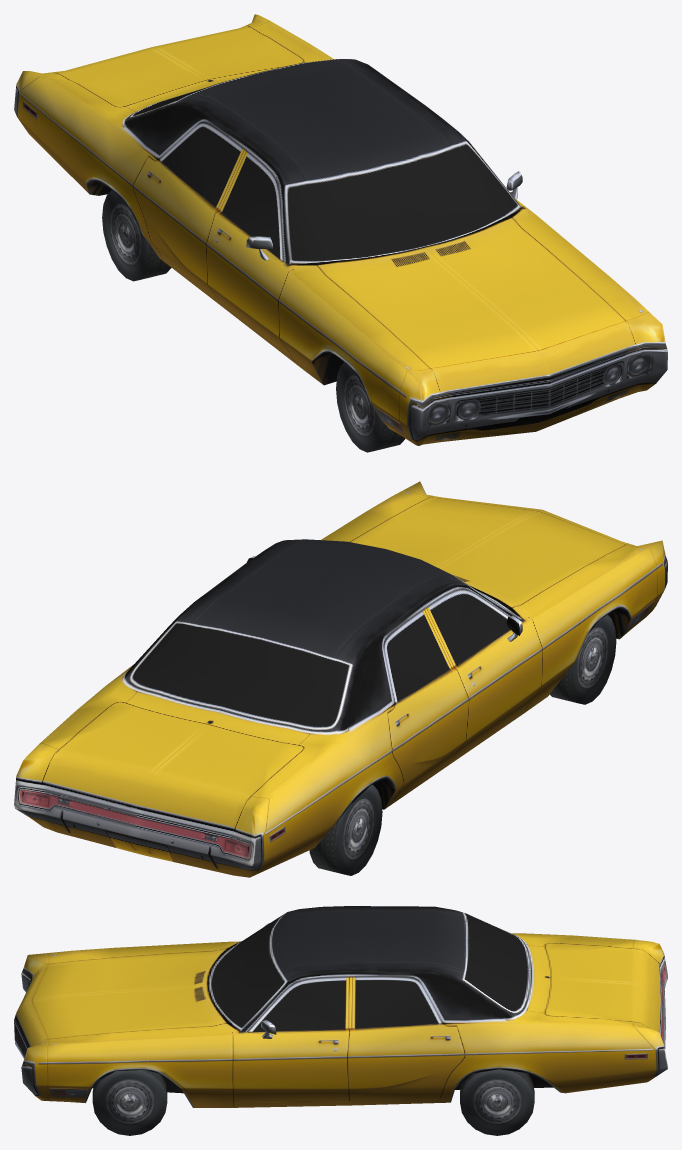
File: car 13.fbx
3 views of the same model, one above another, from view 1: azimuth 30°, elevation 25°; view 2: azimuth 150°, elevation 25°; view 3: azimuth 270°, elevation 25° (orthographic). The views are drawn at different scales.
Visible parts, largest first — view 1: body, B_L_tyer, L_tyer; view 2: body, B_L_tyer, L_tyer; view 3: body, B_R_tyer, R_tyer.
Part boxes in pixels (bbox=[...]): body: bbox=[14, 14, 667, 445]; B_L_tyer: bbox=[102, 190, 171, 281]; L_tyer: bbox=[336, 362, 405, 452]; body: bbox=[14, 481, 667, 877]; B_L_tyer: bbox=[309, 784, 382, 875]; L_tyer: bbox=[550, 615, 616, 704]; body: bbox=[14, 906, 667, 1107]; B_R_tyer: bbox=[460, 1069, 534, 1135]; R_tyer: bbox=[92, 1070, 167, 1135].
Size of the model in its own units: 794 by 559 by 2096.
2 materials, 2 textured.
